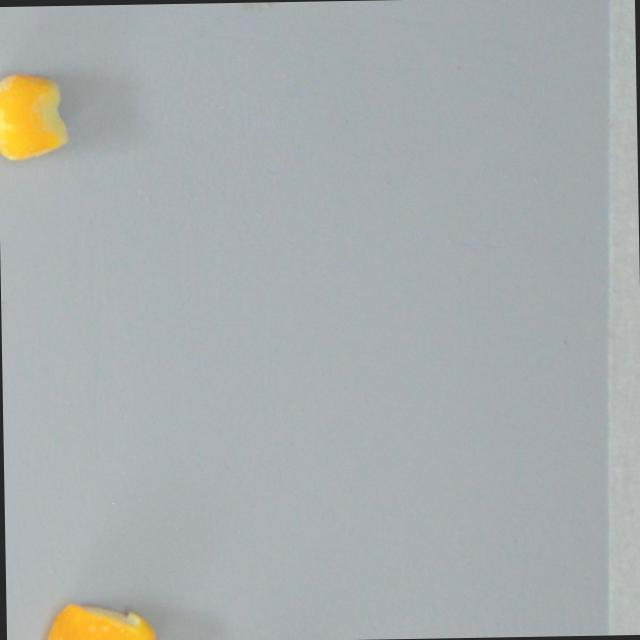pelicula: (0, 71, 68, 160), (40, 599, 156, 640)
